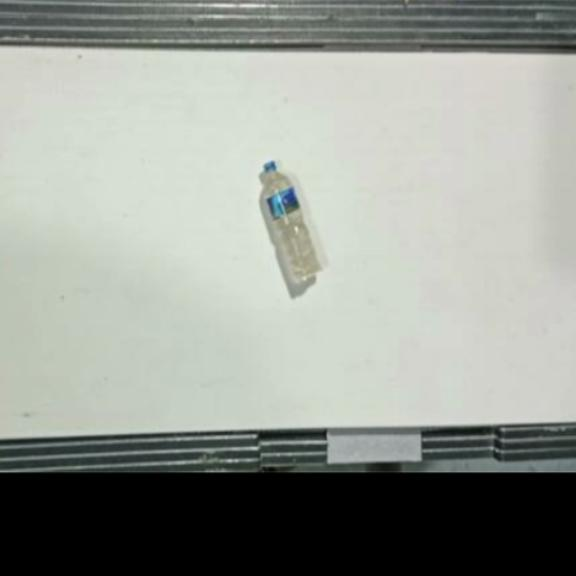Plastik: (261, 160, 323, 287)
